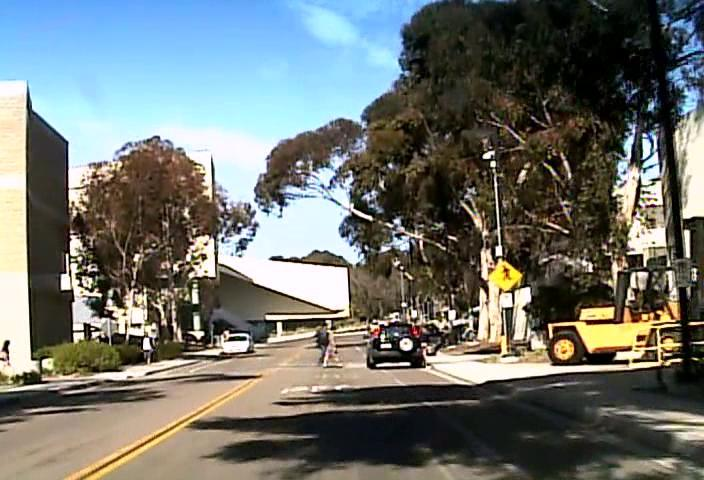pedestrianCrossing: (488, 259, 522, 292)
